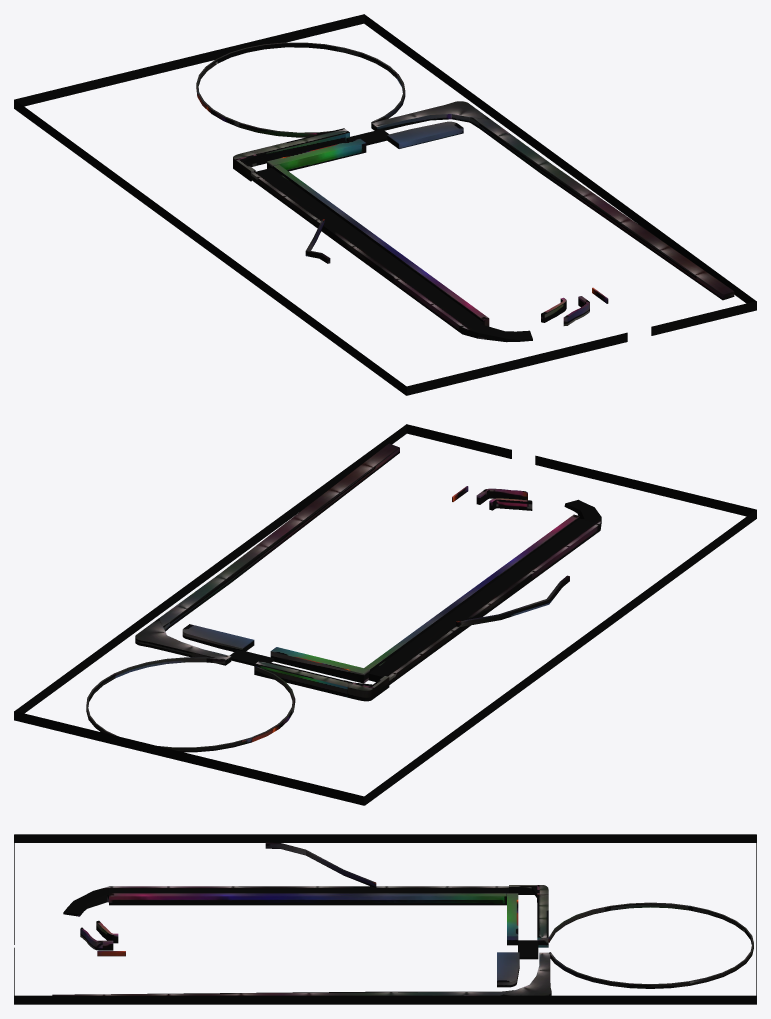
The model's file is Walls-transformed.glb.
3 renders of one model, top to bottom at view 1: azimuth 30°, elevation 25°; view 2: azimuth 150°, elevation 25°; view 3: azimuth 270°, elevation 25°, orthographic. The views are drawn at different scales.
Visible parts, largest first — view 1: Cube.329, Cube.601, Cube.585, Cube.586, Cube.587, Cube.436, Cube.582, Cube.330, Cube.331, Cube.332, Cube.581; view 2: Cube.329, Cube.601, Cube.585, Cube.586, Cube.587, Cube.582, Cube.436, Cube.330, Cube.331, Cube.332, Cube.581, Cube.434 (+1 smaller); view 3: Cube.329, Cube.586, Cube.585, Cube.601, Cube.436, Cube.332, Cube.434, Cube.331, Cube.330, Plane.001, Cube.604.
Part boxes in pixels (left/top/right/bottom): Cube.329: left=251, top=164, right=532, bottom=342; Cube.601: left=371, top=101, right=734, bottom=300; Cube.585: left=14, top=99, right=406, bottom=395; Cube.586: left=364, top=14, right=756, bottom=309; Cube.587: left=15, top=14, right=363, bottom=106; Cube.436: left=196, top=42, right=405, bottom=137; Cube.582: left=407, top=332, right=627, bottom=395; Cube.330: left=267, top=138, right=366, bottom=171; Cube.331: left=251, top=128, right=349, bottom=165; Cube.332: left=387, top=121, right=463, bottom=148; Cube.581: left=651, top=301, right=756, bottom=335; Cube.329: left=364, top=499, right=601, bottom=684; Cube.601: left=135, top=443, right=399, bottom=665; Cube.585: left=364, top=509, right=756, bottom=805; Cube.586: left=14, top=424, right=406, bottom=719; Cube.587: left=14, top=711, right=364, bottom=805; Cube.582: left=535, top=455, right=755, bottom=516; Cube.436: left=86, top=657, right=295, bottom=752; Cube.330: left=270, top=647, right=369, bottom=683; Cube.331: left=254, top=660, right=353, bottom=697; Cube.332: left=182, top=624, right=254, bottom=651; Cube.581: left=406, top=424, right=511, bottom=458; Cube.434: left=456, top=575, right=569, bottom=626; Cube.329: left=63, top=886, right=509, bottom=916; Cube.586: left=14, top=995, right=756, bottom=1004; Cube.585: left=14, top=834, right=756, bottom=842; Cube.601: left=52, top=952, right=551, bottom=995; Cube.436: left=548, top=902, right=753, bottom=988; Cube.332: left=497, top=952, right=519, bottom=987; Cube.434: left=265, top=842, right=376, bottom=887; Cube.331: left=537, top=894, right=548, bottom=947; Cube.330: left=507, top=893, right=518, bottom=945; Plane.001: left=518, top=940, right=538, bottom=959; Cube.604: left=509, top=885, right=548, bottom=902.
Bounding box in the file's own units: 3804 × 312 × 7374.
Materials: 2 (2 with a texture image).
